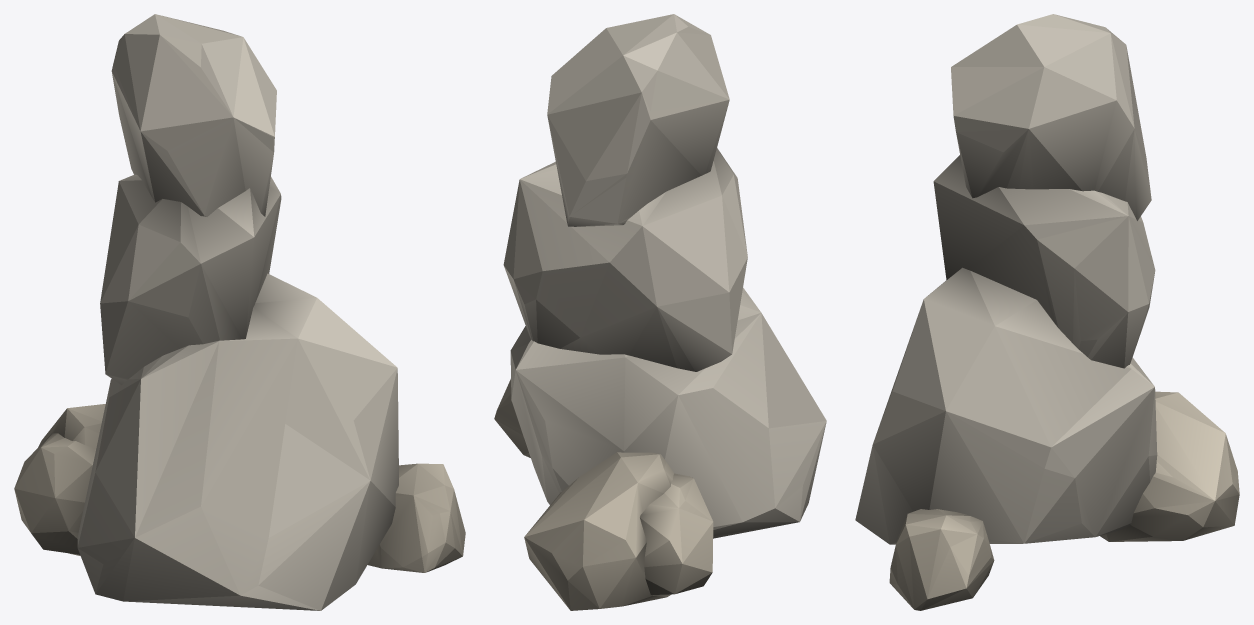
The model's file is HeroCliff_C.fbx.
3 views of the same model, side by side, from view 1: azimuth 30°, elevation 25°; view 2: azimuth 150°, elevation 25°; view 3: azimuth 270°, elevation 25° (orthographic). The views are drawn at different scales.
Parts seen in each view (by area): view 1: HeroCliff_C__Rock; view 2: HeroCliff_C__Rock; view 3: HeroCliff_C__Rock.
Boxes of the visible parts, x1,y1,x2,y2 form: HeroCliff_C__Rock: [14, 14, 465, 610]; HeroCliff_C__Rock: [494, 14, 826, 610]; HeroCliff_C__Rock: [855, 14, 1239, 610].
Size of the model in its own units: 5.99 by 9.19 by 6.34.
